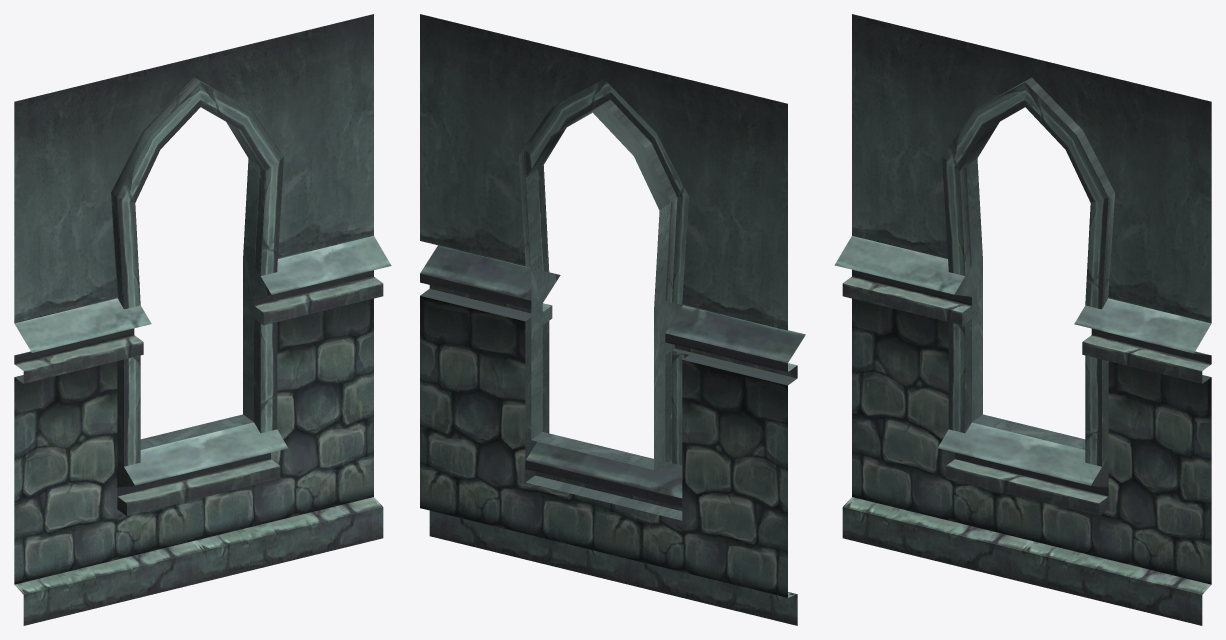
File: crypt_wall_straight_05.fbx
3 views of the same model, side by side, from view 1: azimuth 30°, elevation 25°; view 2: azimuth 150°, elevation 25°; view 3: azimuth 330°, elevation 25° (orthographic). The views are drawn at different scales.
Parts seen in each view (by area): view 1: crypt_wall_straight_05-0; view 2: crypt_wall_straight_05-0; view 3: crypt_wall_straight_05-0.
Boxes of the visible parts, x1,y1,x2,y2 form: crypt_wall_straight_05-0: (14, 14, 391, 625); crypt_wall_straight_05-0: (420, 14, 805, 625); crypt_wall_straight_05-0: (834, 14, 1211, 625).
Size of the model in its own units: 4 by 5.5 by 0.5522.
